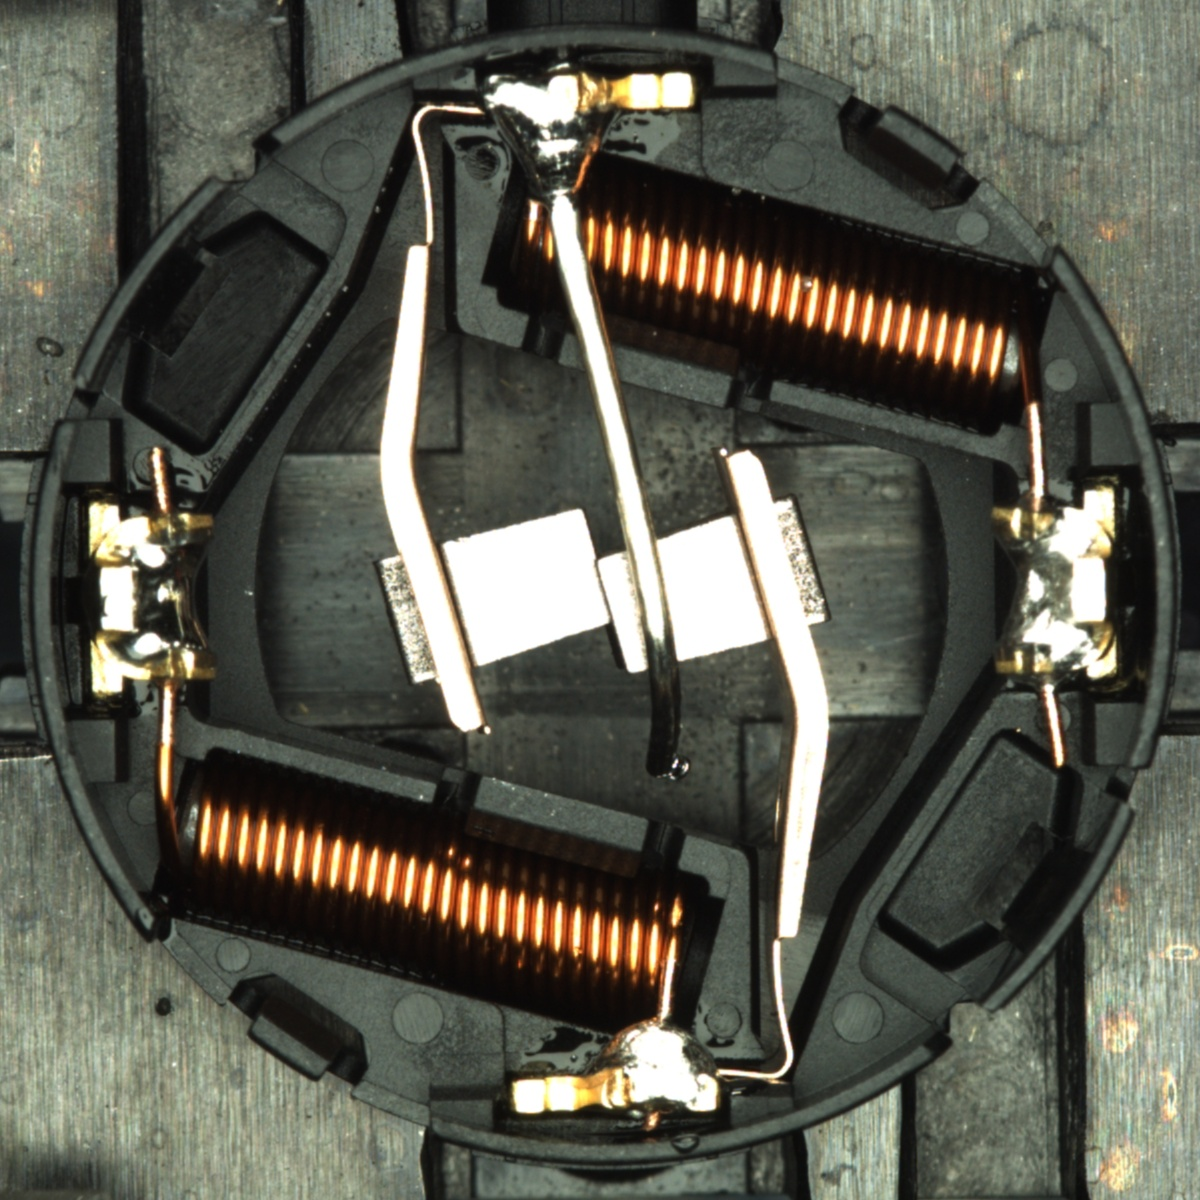1: (258, 55, 487, 279), (716, 953, 945, 1177)
2: (716, 55, 945, 279), (258, 953, 487, 1177)
3: (29, 279, 258, 503), (945, 729, 1175, 953)
4: (258, 279, 487, 503), (716, 729, 945, 953)
5: (487, 841, 716, 1065)
6: (716, 279, 945, 503), (258, 729, 487, 953)
7: (945, 279, 1175, 503), (29, 729, 258, 953)
chau_dien: (82, 496, 221, 698), (982, 488, 1123, 685)
tay_choi: (510, 1016, 721, 1116)
thanh_de: (955, 785, 1143, 1030), (59, 164, 244, 405)
vun_chi: (543, 196, 636, 443), (598, 400, 677, 629), (641, 622, 693, 782)
